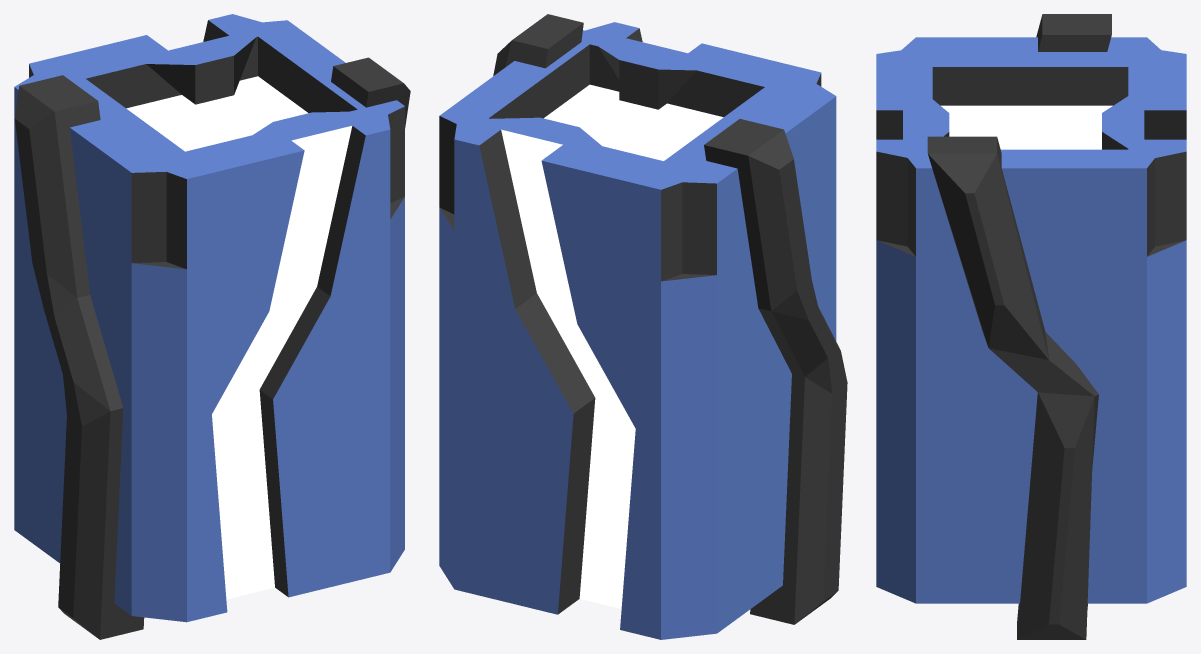
File: Box_Life.fbx
The picture shows the model from 3 angles, left to right: view 1: azimuth 30°, elevation 25°; view 2: azimuth 150°, elevation 25°; view 3: azimuth 270°, elevation 25°; orthographic projection. The views are drawn at different scales.
Parts seen in each view (by area): view 1: Box_life; view 2: Box_life; view 3: Box_life.
Part boxes in pixels (left/top/right/bottom): Box_life: left=14, top=14, right=410, bottom=639; Box_life: left=439, top=14, right=847, bottom=639; Box_life: left=876, top=14, right=1186, bottom=639.
Size of the model in its own units: 126 by 178 by 103.
